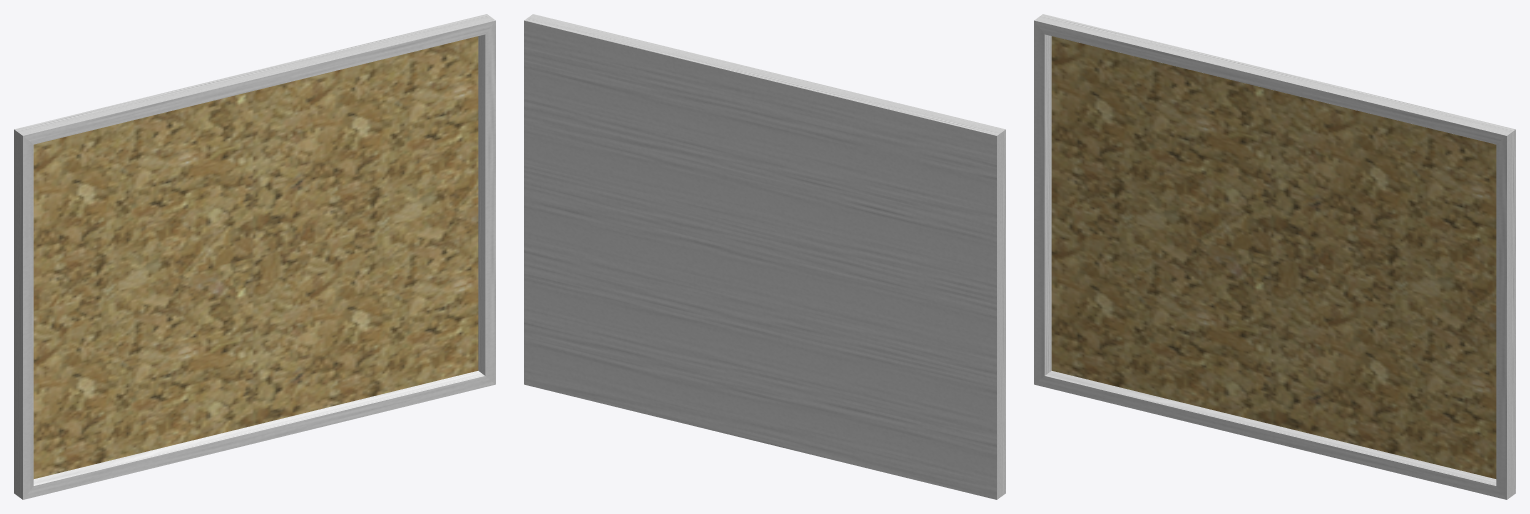
Rendered from Corkboard_C.FBX.
The picture shows the model from 3 angles, left to right: view 1: azimuth 30°, elevation 25°; view 2: azimuth 150°, elevation 25°; view 3: azimuth 330°, elevation 25°; orthographic projection.
Parts seen in each view (by area): view 1: Corkboard; view 2: Corkboard; view 3: Corkboard.
Boxes of the visible parts, <box> form: Corkboard: <box>14,14,495,499</box>; Corkboard: <box>524,14,1005,499</box>; Corkboard: <box>1034,14,1515,499</box>.
Bounding box in the file's own units: 143 × 105 × 4.7.
